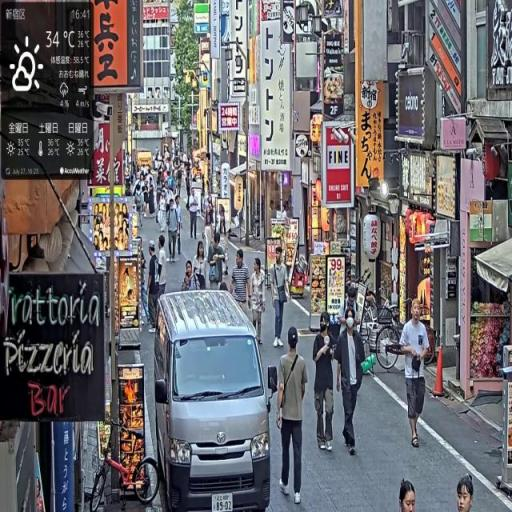person: (277, 324, 309, 507), (400, 299, 433, 452), (337, 312, 368, 459), (313, 311, 338, 454), (271, 247, 292, 352), (250, 255, 267, 350), (232, 249, 253, 312), (167, 199, 182, 264), (456, 476, 476, 512), (397, 480, 419, 512), (181, 261, 201, 292), (189, 189, 201, 240)
